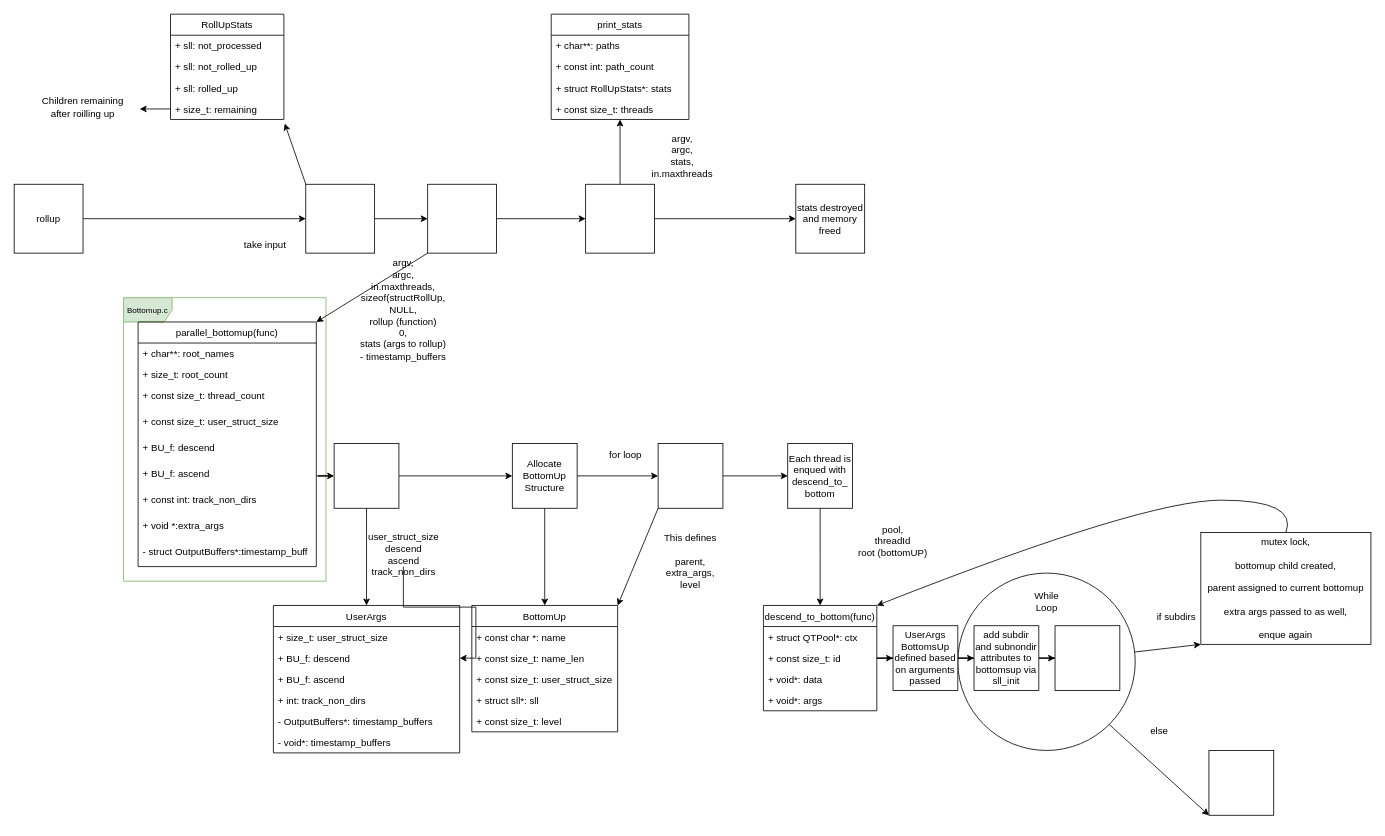
Some shapes in this 1385 by 836 pixel diagram are drawn without their labels. The centre of each missing label's shape, as x and y in pixels:
"ascend_to_top (check ascending diagram)" goes at pixel 1241 782.
"BottomUp values defined" goes at pixel 690 475.
"calculate record count" goes at pixel 462 218.
"Construct UserArgs" goes at pixel 366 475.
"count the sub directory and sub non-directories" goes at pixel 1087 658.
"RollUpStats allocated" goes at pixel 340 218.
"stats printed" goes at pixel 619 218.
